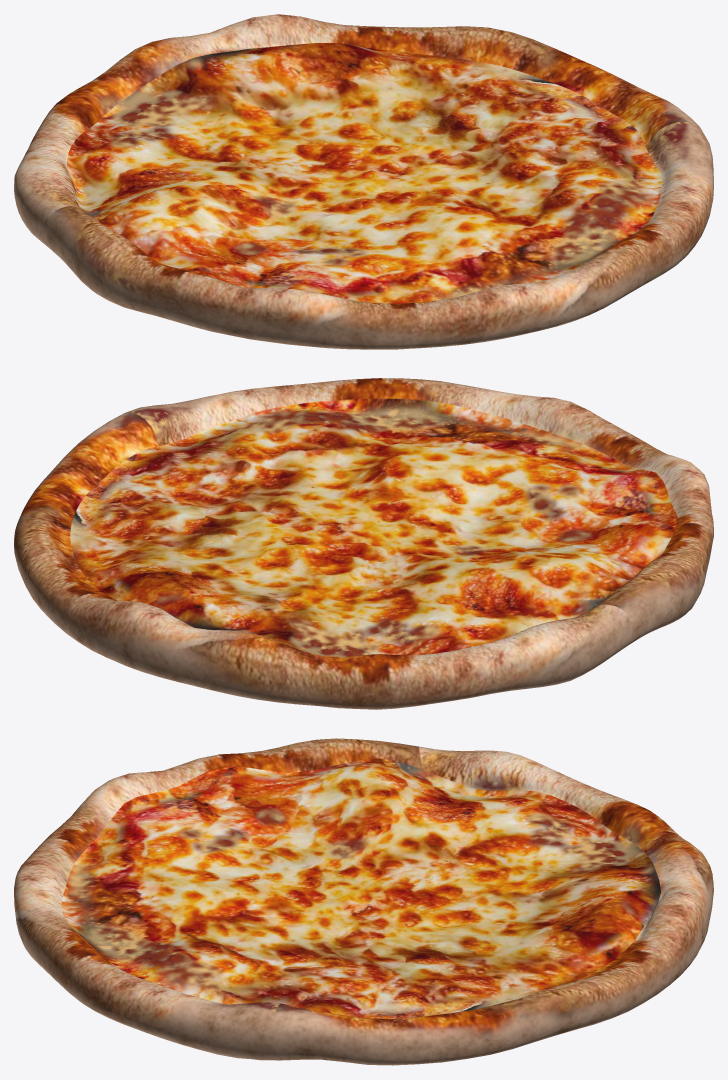
Rendered from pizza.glb.
3 views of the same model, one above another, from view 1: azimuth 30°, elevation 25°; view 2: azimuth 150°, elevation 25°; view 3: azimuth 270°, elevation 25° (orthographic).
Parts seen in each view (by area): view 1: piza_low_01:Group259; view 2: piza_low_01:Group259; view 3: piza_low_01:Group259.
Boxes of the visible parts, x1=… form: piza_low_01:Group259: x1=14, y1=14, x2=713, y2=349; piza_low_01:Group259: x1=14, y1=378, x2=713, y2=709; piza_low_01:Group259: x1=14, y1=738, x2=713, y2=1065.
Bounding box in the file's own units: 0.2874 × 0.0298 × 0.2942.
1 material, 1 textured.
